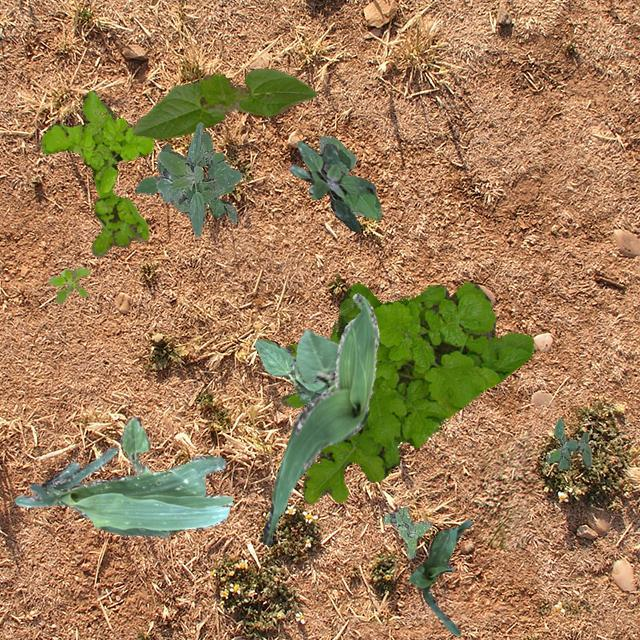crop: (260, 292, 378, 544), (13, 446, 232, 536), (130, 68, 316, 138), (154, 122, 242, 236), (408, 518, 472, 634), (318, 134, 380, 220), (254, 338, 326, 404), (294, 328, 338, 391), (118, 416, 150, 474)
weed: (278, 280, 532, 502), (41, 88, 152, 255), (134, 130, 235, 222), (288, 140, 374, 230), (382, 506, 432, 558), (546, 418, 590, 468), (48, 266, 88, 302)
